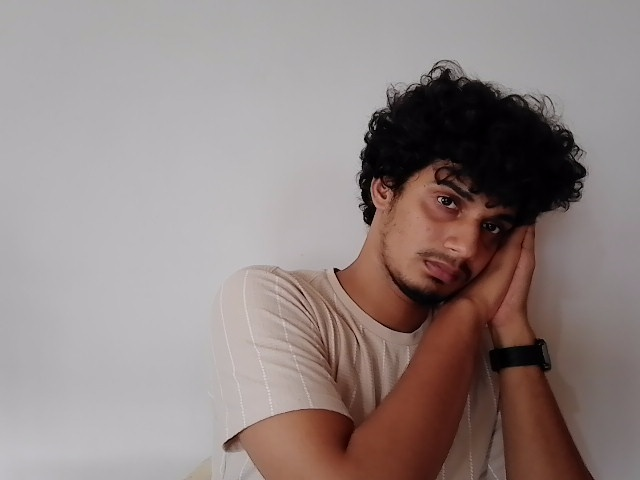sleep: (435, 212, 540, 326)
